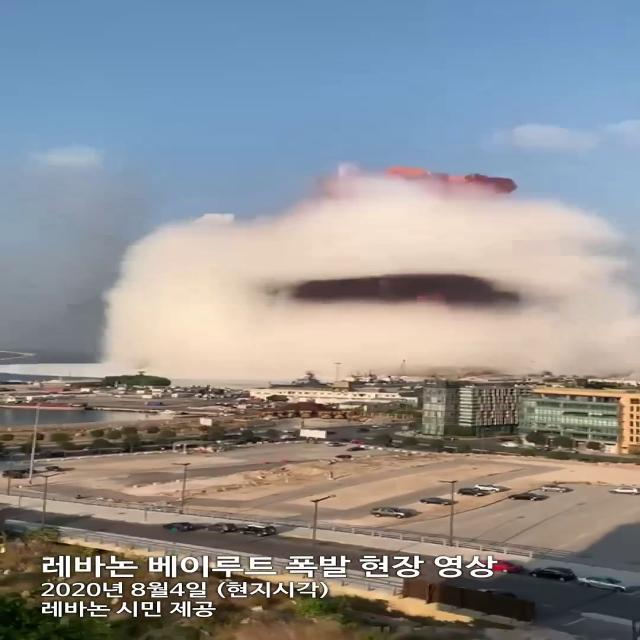explosion: (92, 166, 640, 428)
